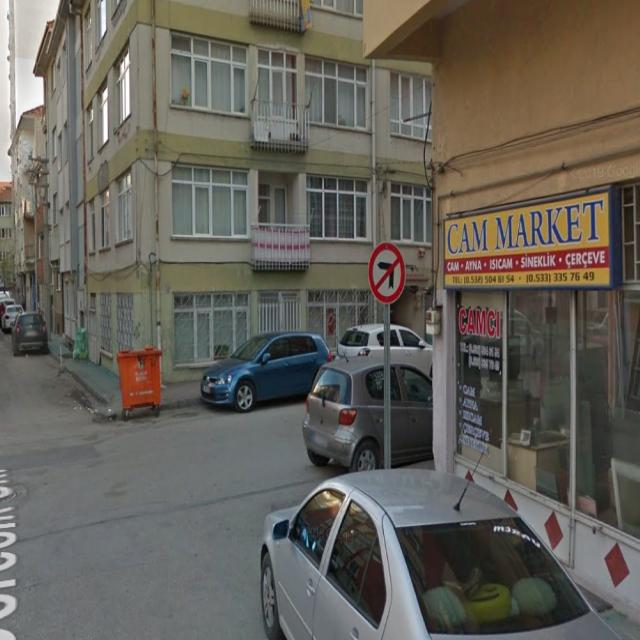soladonulmez: (370, 242, 404, 304)
